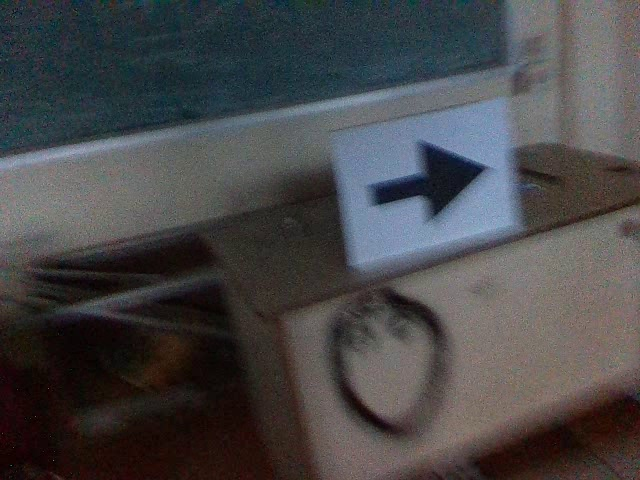Right: (362, 133, 496, 229)
